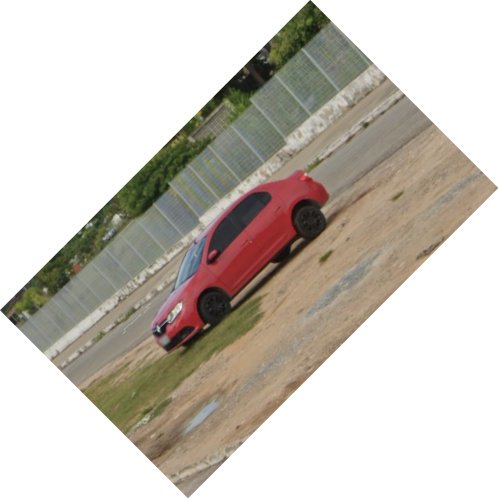car: (150, 168, 336, 363)
